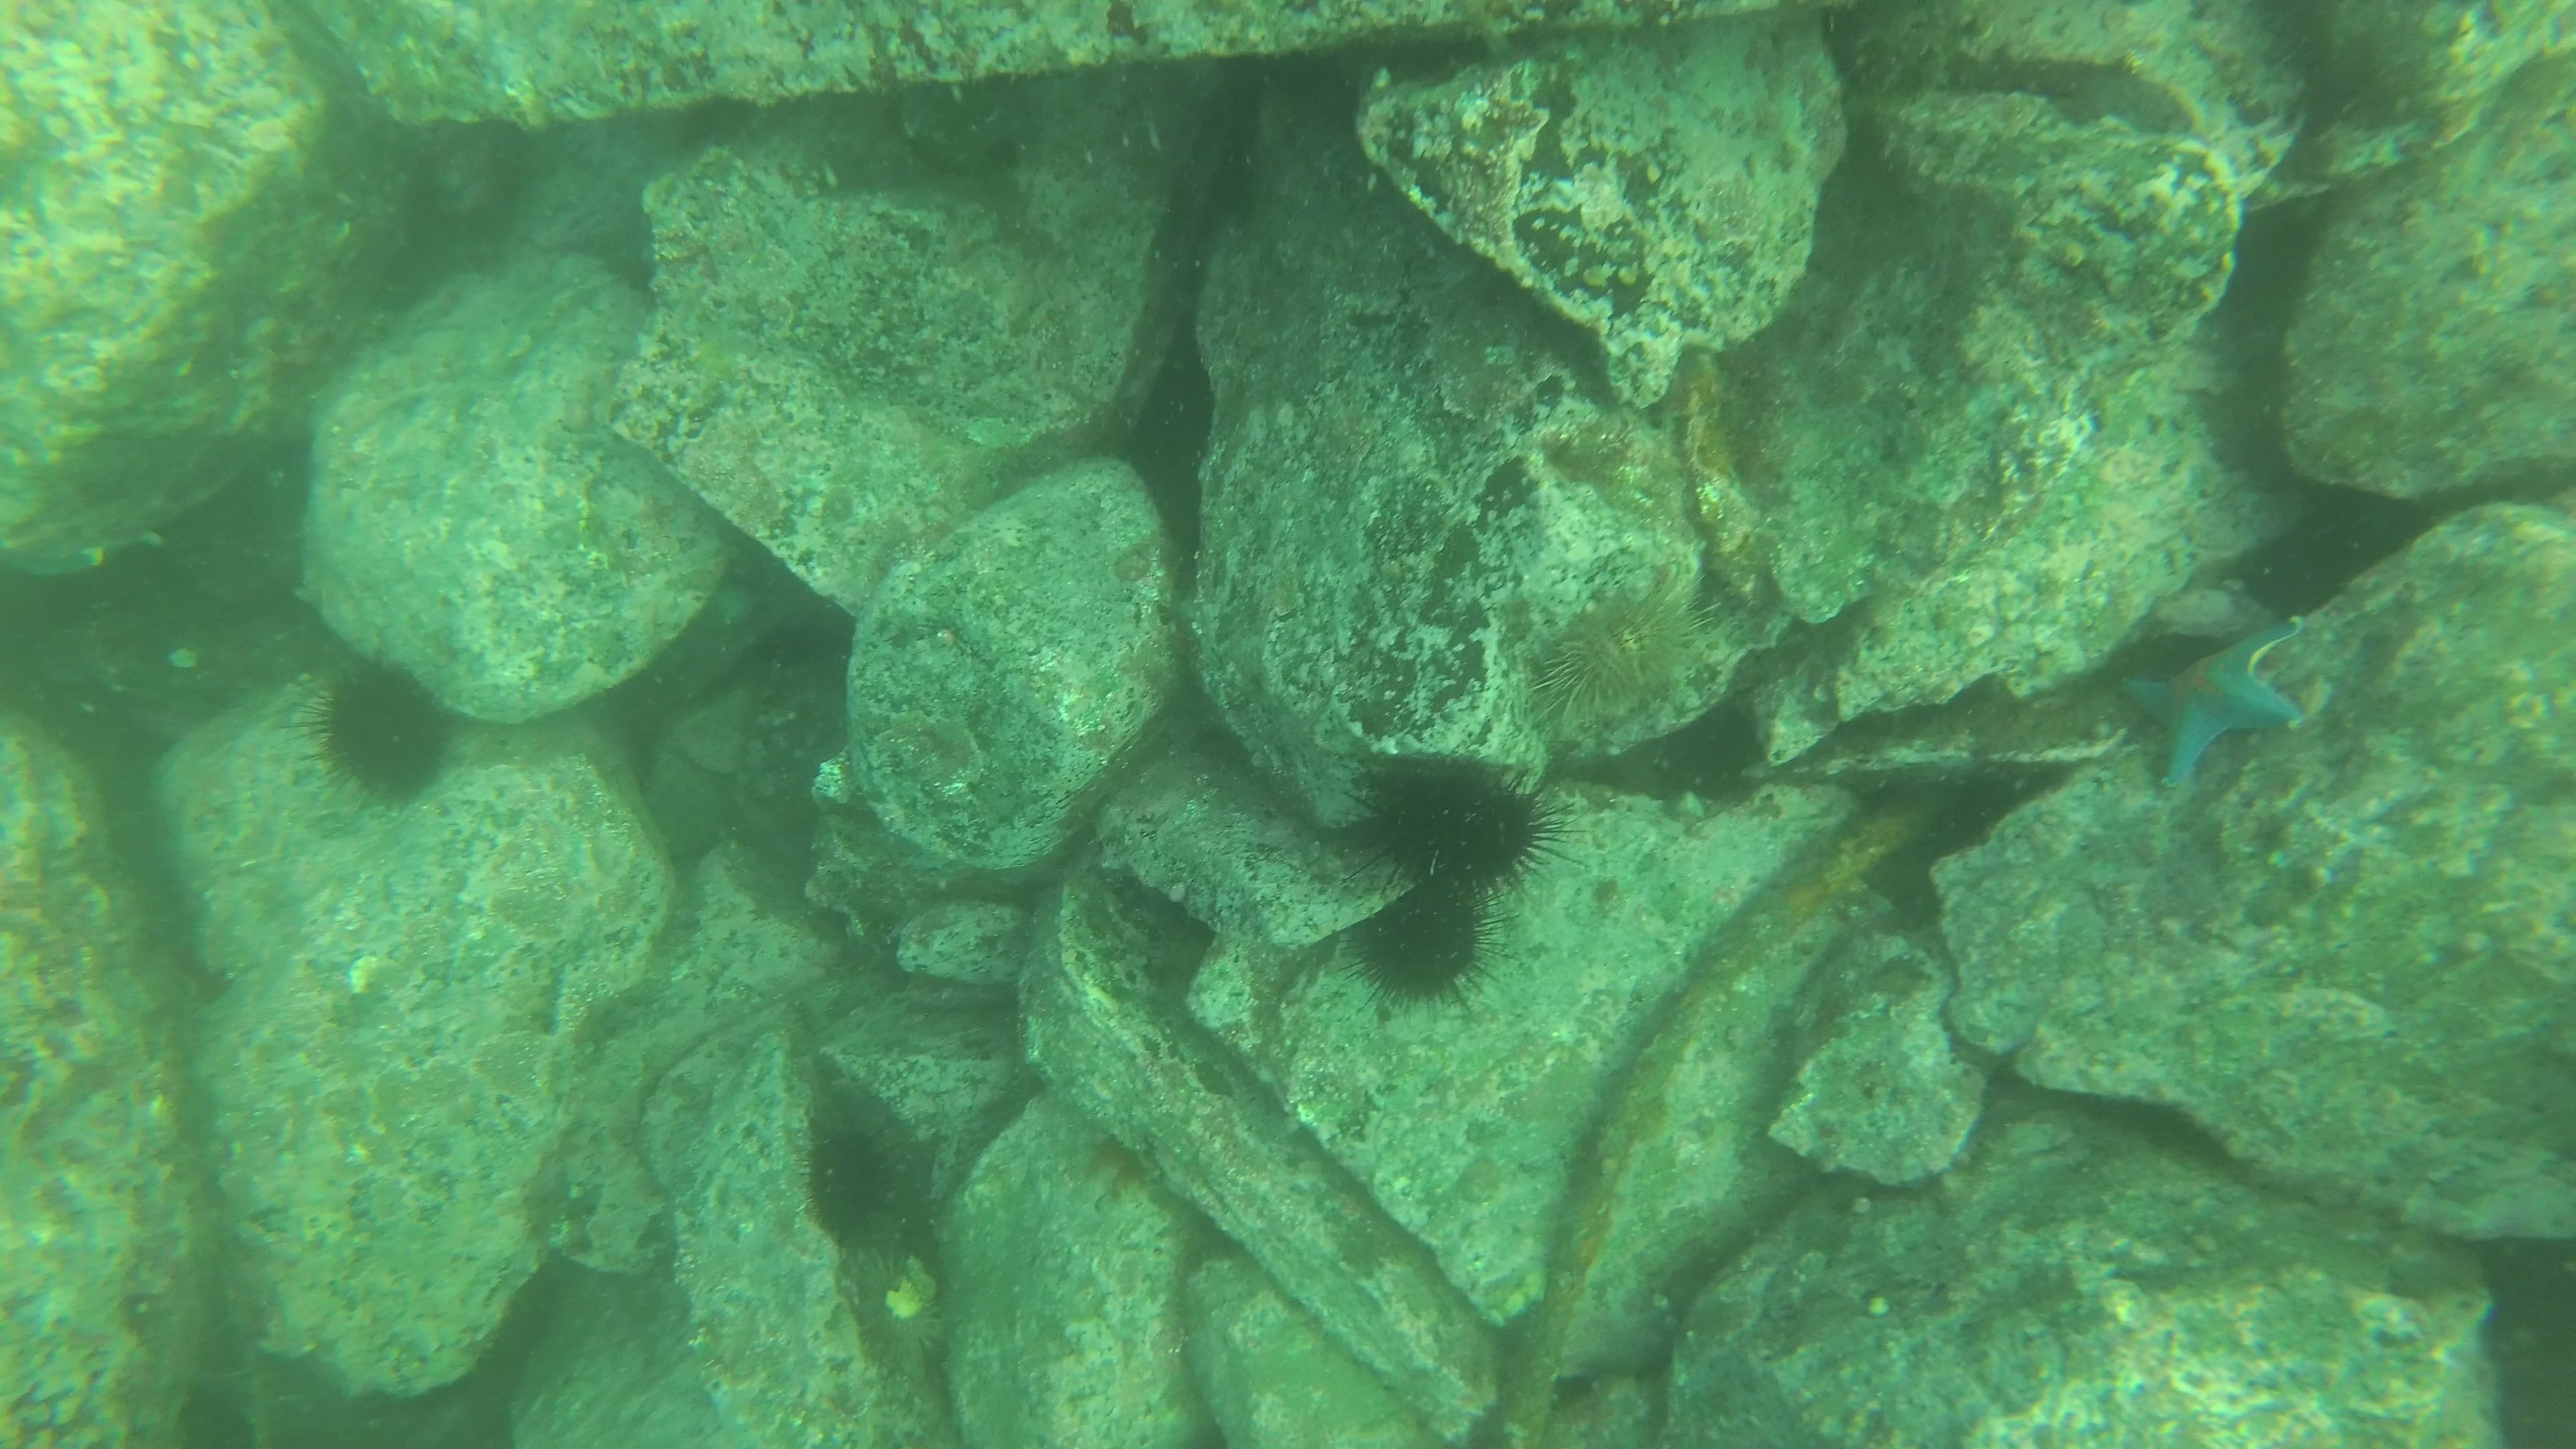echinus: (1346, 747, 1562, 893), (1530, 575, 1713, 732), (299, 651, 462, 809), (1345, 876, 1499, 1008), (794, 1111, 908, 1247)
starfish: (2114, 623, 2307, 793)
